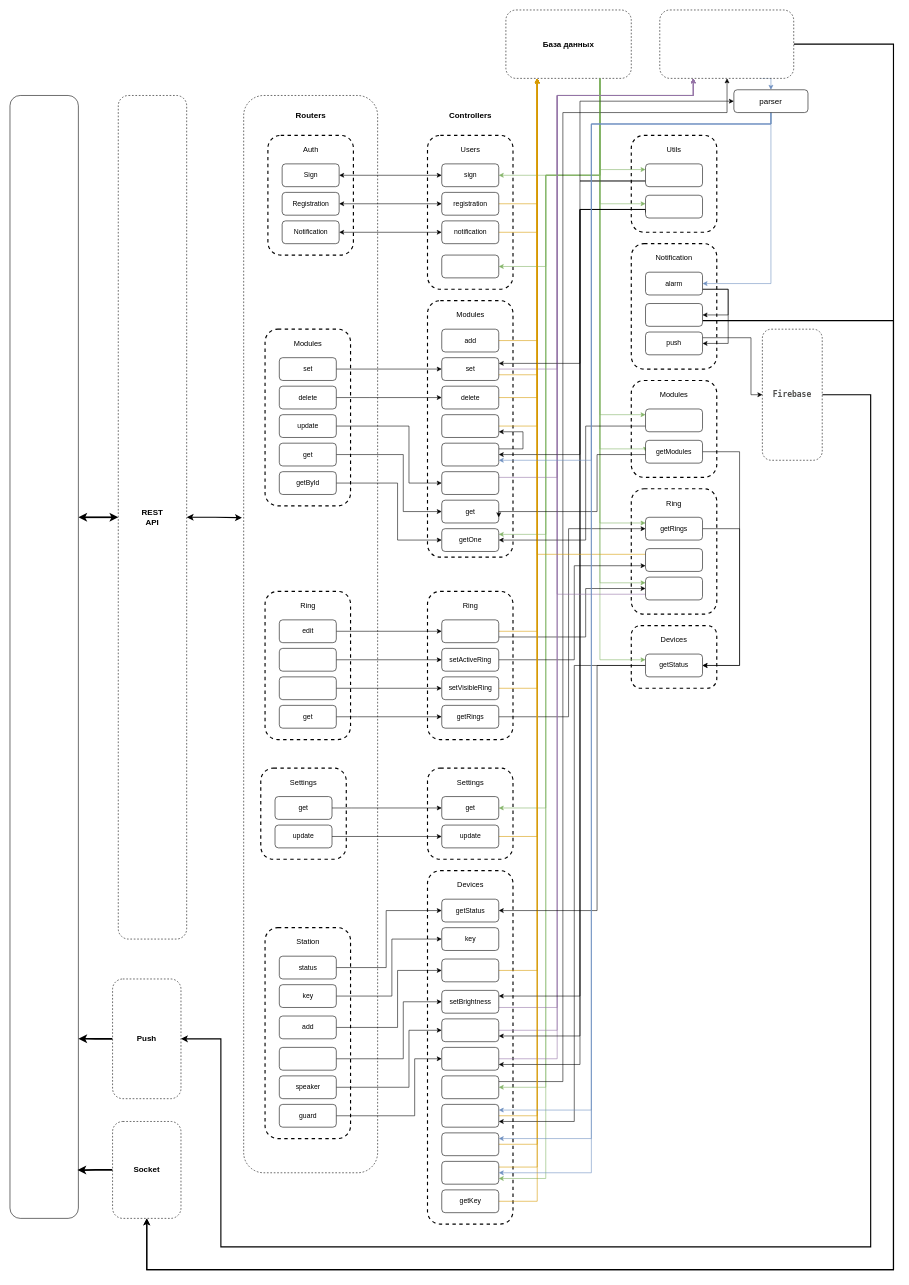
The diagram is 909 pixels wide and 1285 high, and some of its shapes have lost their labels. The centre of each missing label's shape, as x and y in pixels:
active: the point at 307,659
addStation: the point at 470,970
brightness: the point at 307,1058
changeActive: the point at 674,559
changeGuard: the point at 470,1058
confirmGuard: the point at 470,1144
connect: the point at 470,1172
editRing: the point at 470,631
Frontend: the point at 43,656
getActions: the point at 674,420
getIds: the point at 470,1087
getPushTokens: the point at 470,266
getStationId FromUserId: the point at 674,206
getUserId FromStationId: the point at 674,175
MQTT: the point at 726,43
pushInSocket: the point at 674,314
sendRings: the point at 674,588
setSpeaker: the point at 470,1030
setStatus: the point at 470,1115
updateModule: the point at 470,425
updateModules: the point at 470,454
updateName: the point at 470,482
visible: the point at 307,688
